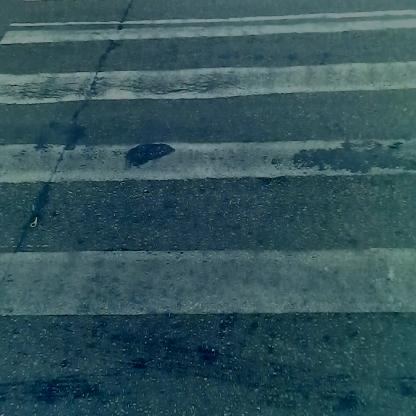crosswalk: (4, 9, 398, 383)
